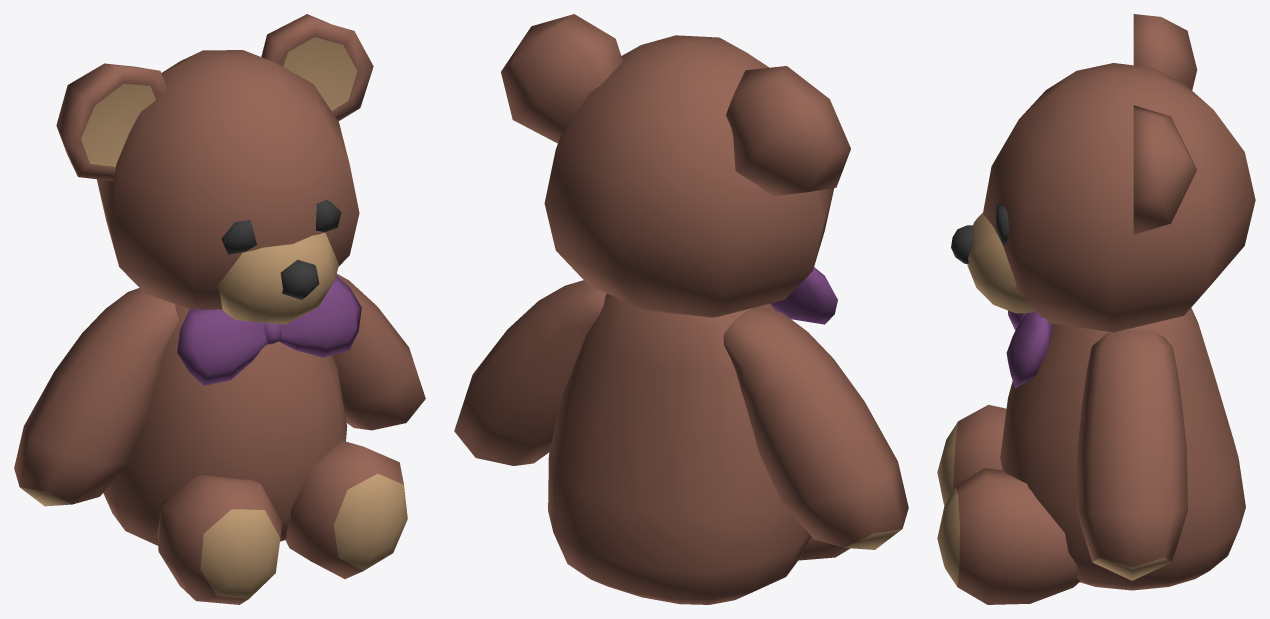
The model's file is teddybear.fbx.
3 renders of one model, left to right at view 1: azimuth 30°, elevation 25°; view 2: azimuth 150°, elevation 25°; view 3: azimuth 270°, elevation 25°, orthographic. The views are drawn at different scales.
Parts seen in each view (by area): view 1: teddy; view 2: teddy; view 3: teddy.
Boxes of the visible parts, <box> form: teddy: <box>14,14,425,604</box>; teddy: <box>454,14,908,604</box>; teddy: <box>937,14,1255,604</box>.
Size of the model in its own units: 349 by 412 by 234.
